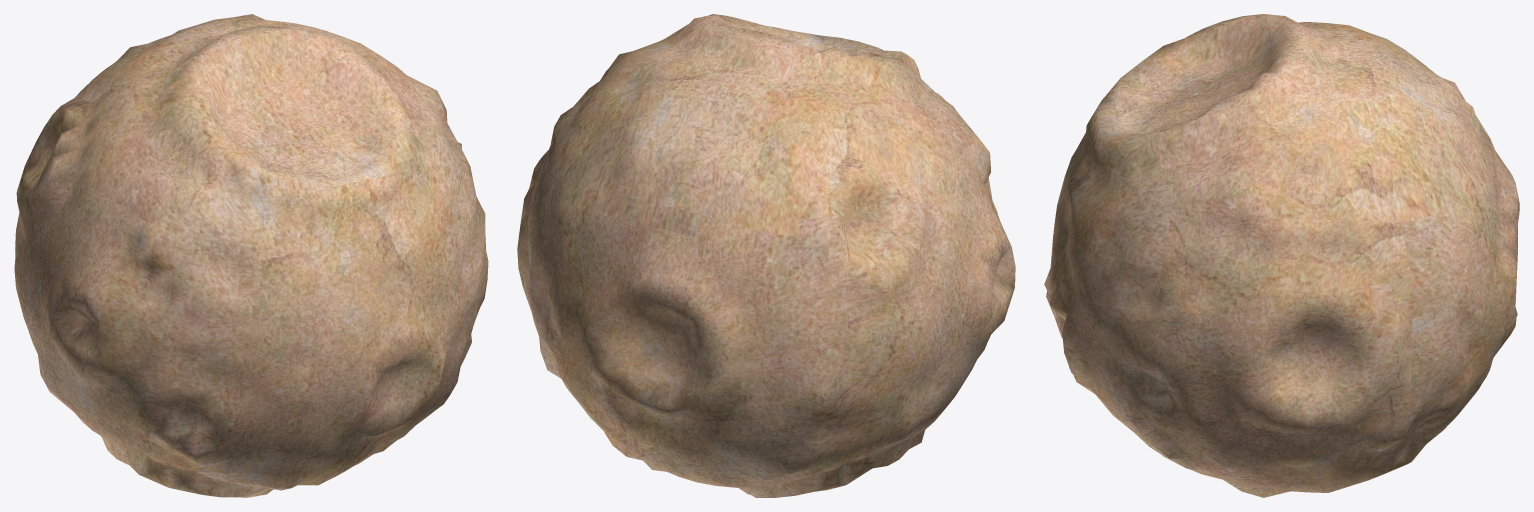
File: FileSelectDataPlanet.dae
3 views of the same model, side by side, from view 1: azimuth 30°, elevation 25°; view 2: azimuth 150°, elevation 25°; view 3: azimuth 270°, elevation 25° (orthographic).
Visible parts, largest first — view 1: Shape_0; view 2: Shape_0; view 3: Shape_0.
Boxes of the visible parts, x1,y1,x2,y2 form: Shape_0: (14,14,488,497); Shape_0: (517,14,1015,497); Shape_0: (1044,14,1519,497).
Bounding box in the file's own units: 65.41 × 64.15 × 64.5.
1 material, 1 textured.
